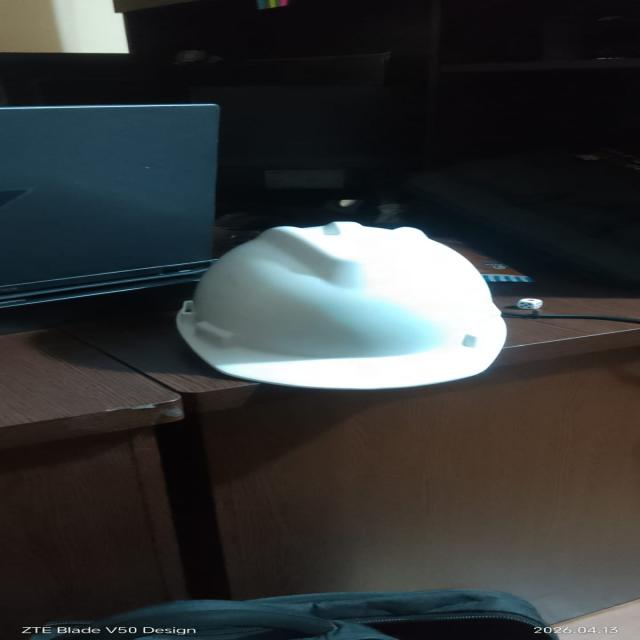casco: (154, 214, 552, 396)
